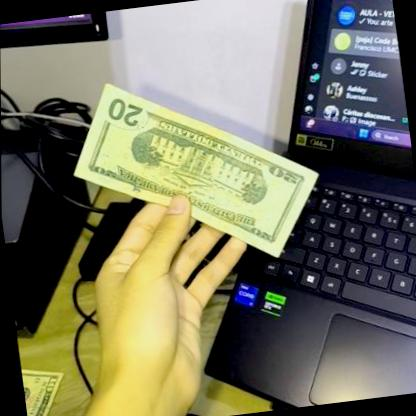twenty-back: (60, 56, 330, 282)
